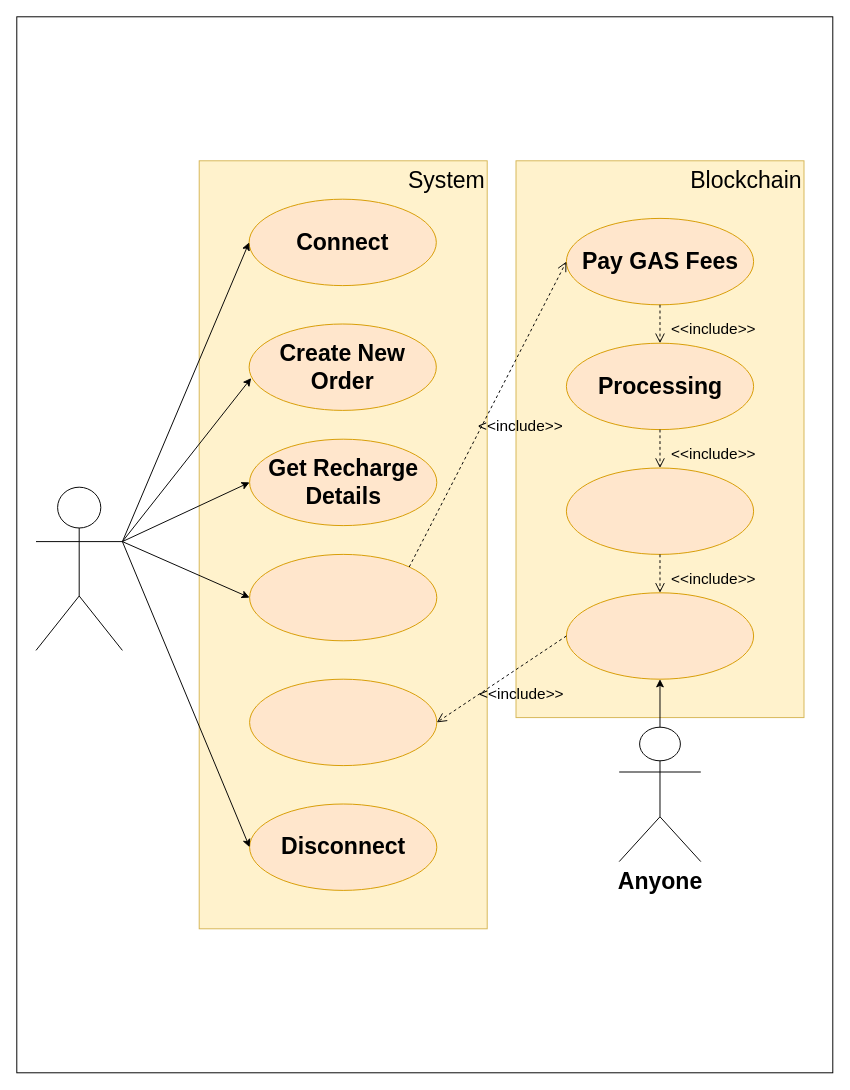
Some shapes in this 850 by 1090 pixel diagram are drawn without their labels. Here are the shapes that lost their labels. From the top down, the centre of each, then its label:
point 659,510: Confirmed
point 78,568: User
point 343,597: Payment
point 659,635: Transaction
point 343,722: Payment status
